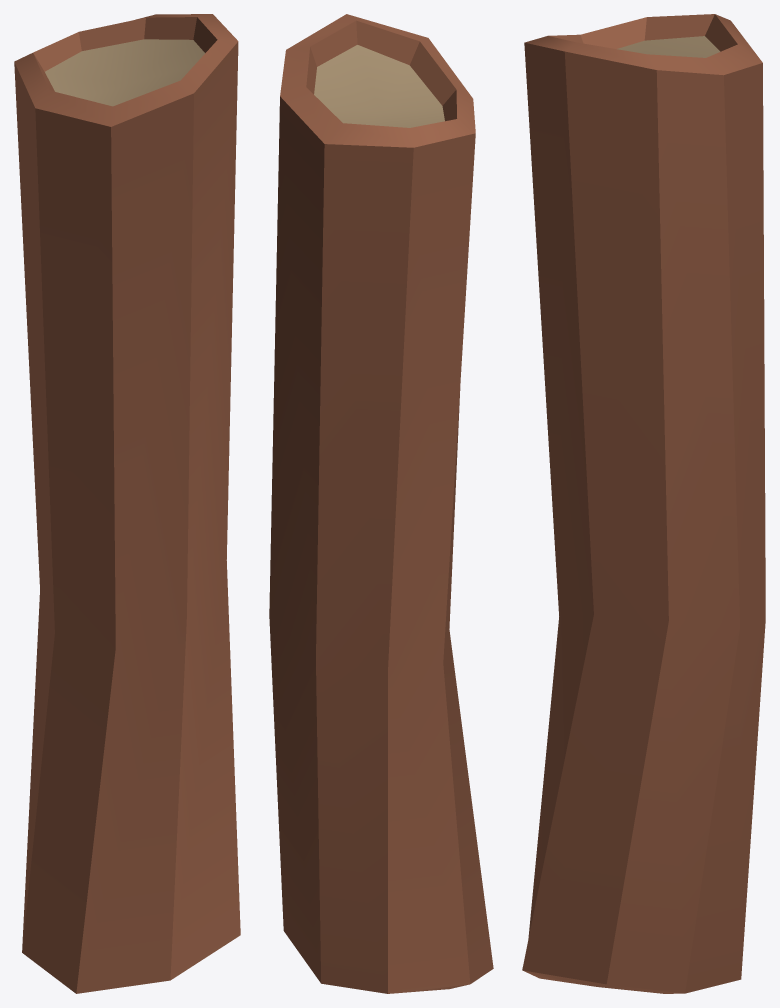
The model's file is LightWoodPoleVsmallWoodPole1.fbx.
3 renders of one model, left to right at view 1: azimuth 30°, elevation 25°; view 2: azimuth 150°, elevation 25°; view 3: azimuth 270°, elevation 25°, orthographic. The views are drawn at different scales.
Visible parts, largest first — view 1: LightWoodPoleVsmallWoodPole1; view 2: LightWoodPoleVsmallWoodPole1; view 3: LightWoodPoleVsmallWoodPole1.
Part boxes in pixels (x1,y1,x2,y2): LightWoodPoleVsmallWoodPole1: (14,14,240,993); LightWoodPoleVsmallWoodPole1: (269,14,493,993); LightWoodPoleVsmallWoodPole1: (522,14,765,993).
Bounding box in the file's own units: 42.02 × 192 × 43.26.
